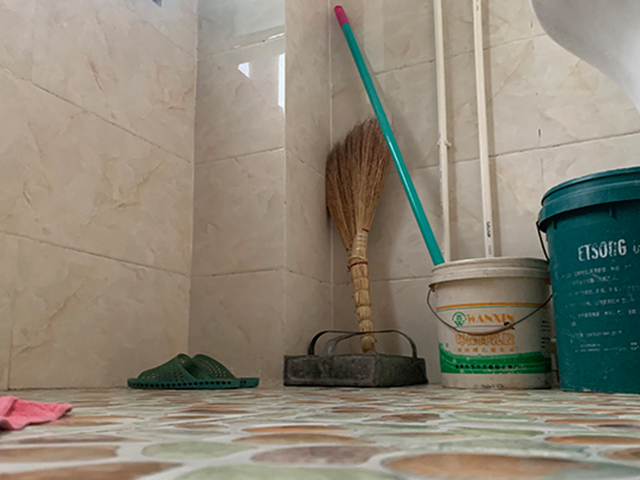slippers: (126, 352, 260, 392)
